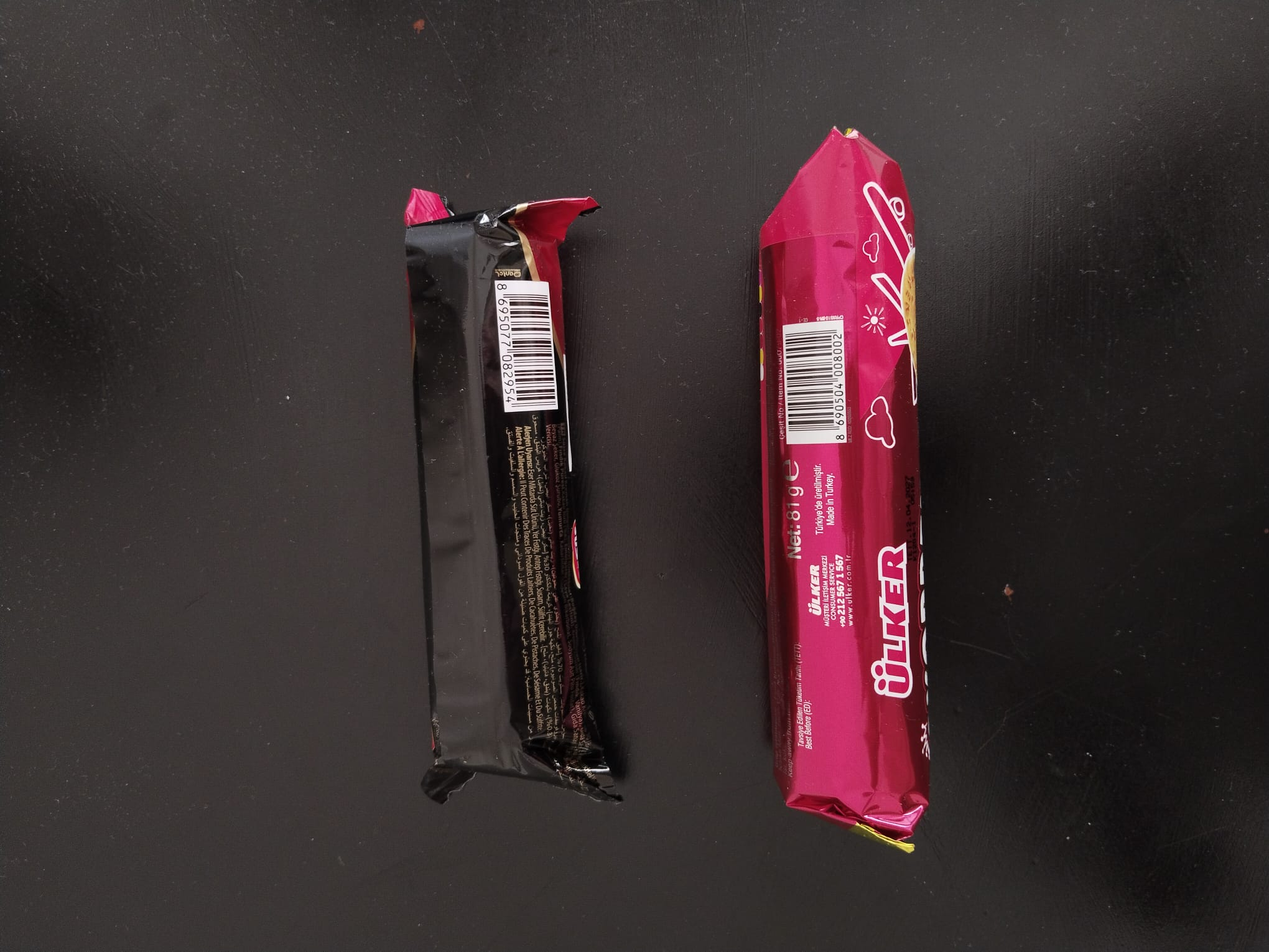susse_biskuvi: (409, 191, 616, 800)
ulker_cokoprens_biskuvi: (752, 129, 921, 836)
